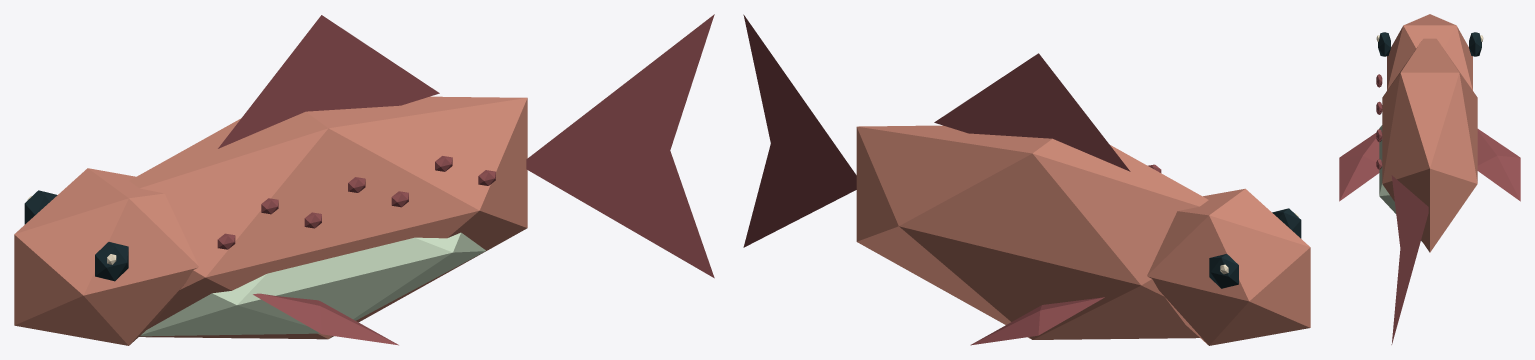
Rendered from salmon.glb.
3 views of the same model, side by side, from view 1: azimuth 30°, elevation 25°; view 2: azimuth 150°, elevation 25°; view 3: azimuth 270°, elevation 25° (orthographic). The views are drawn at different scales.
Visible parts, largest first — view 1: salmon_Mesh, Tail.001_Mesh; view 2: salmon_Mesh, Tail.001_Mesh; view 3: salmon_Mesh, Tail.001_Mesh.
Part boxes in pixels (x1,y1,x2,y2): salmon_Mesh: [14, 15, 527, 345]; Tail.001_Mesh: [526, 14, 714, 278]; salmon_Mesh: [856, 53, 1310, 345]; Tail.001_Mesh: [743, 14, 856, 247]; salmon_Mesh: [1339, 14, 1520, 252]; Tail.001_Mesh: [1391, 175, 1428, 344].
Size of the model in its own units: 0.8493 by 0.4 by 0.308.
